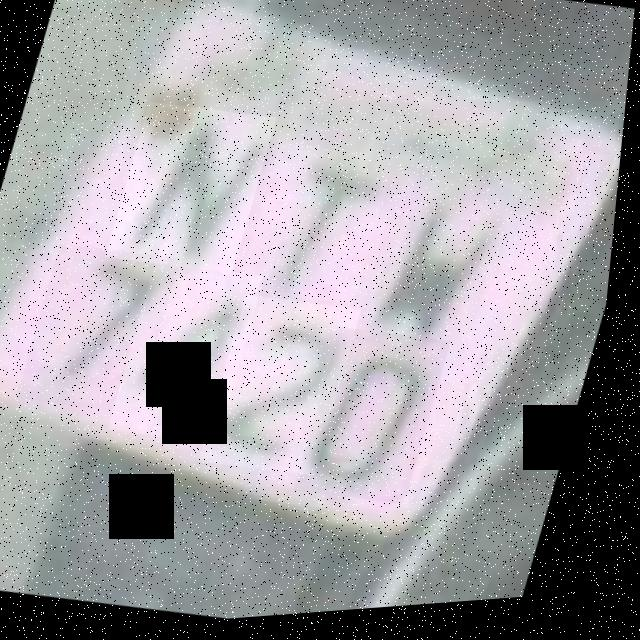0: (302, 327, 460, 518)
2: (206, 293, 370, 488)
4: (114, 259, 272, 454)
7: (22, 237, 188, 423)
N: (358, 166, 520, 368), (109, 97, 281, 284)
T: (243, 141, 402, 317)
W: (363, 171, 512, 363)
